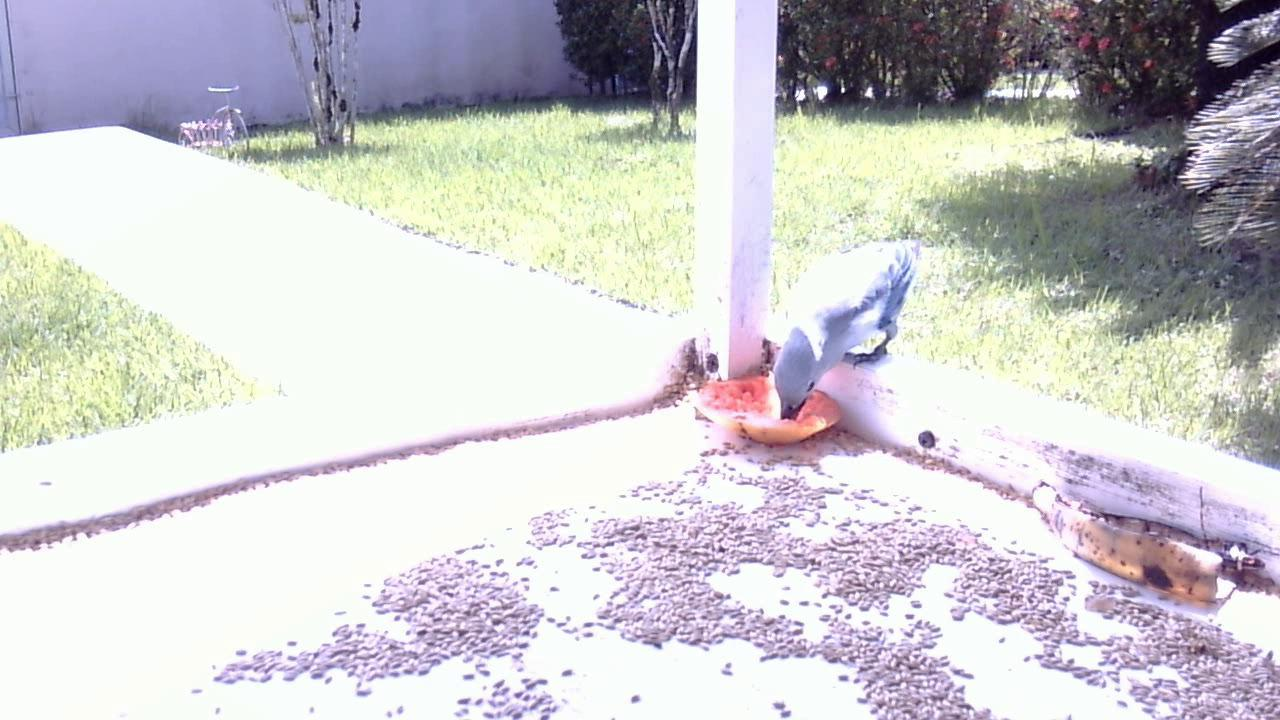sanhaco_da_amazonia: (758, 242, 925, 425)
